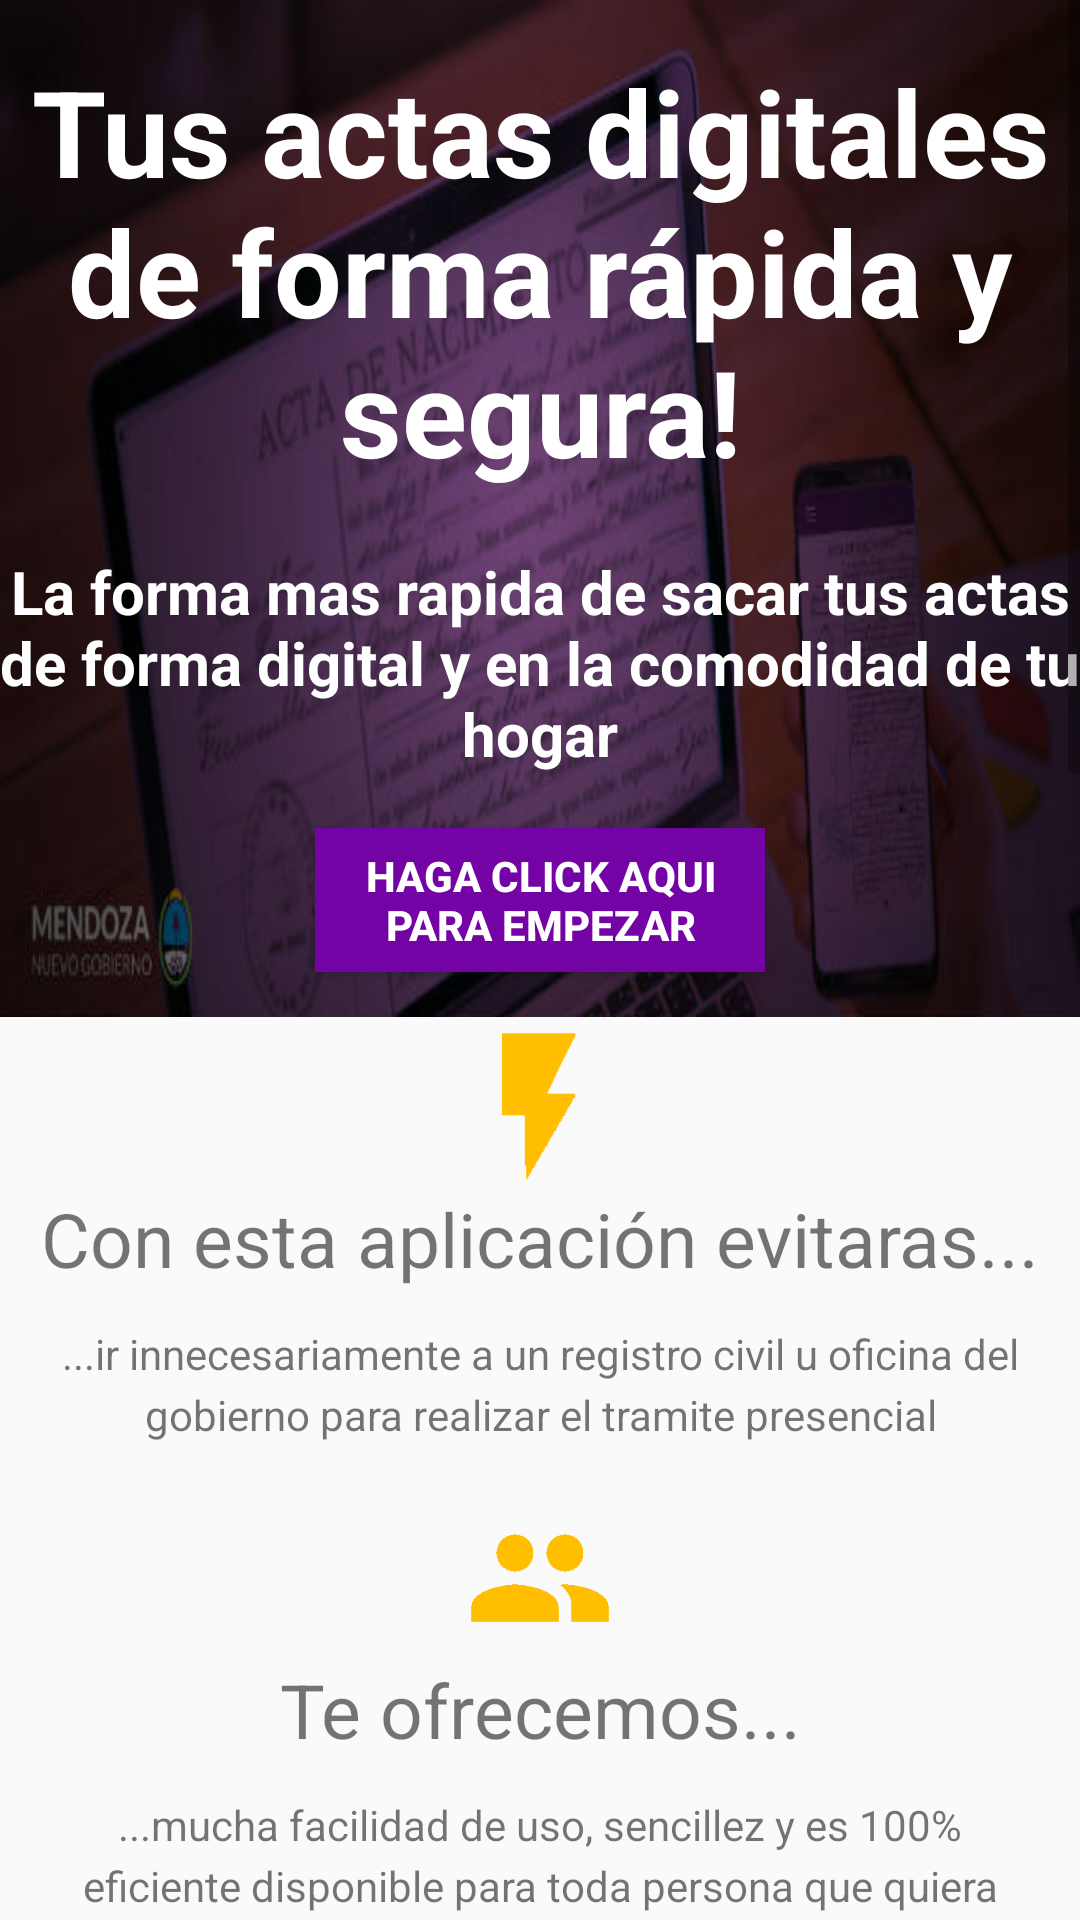

Screen size 1080*1920. Icon name, then its box in pixels as (x1, y1, x2, y2):
flash: (502, 1033, 576, 1180)
